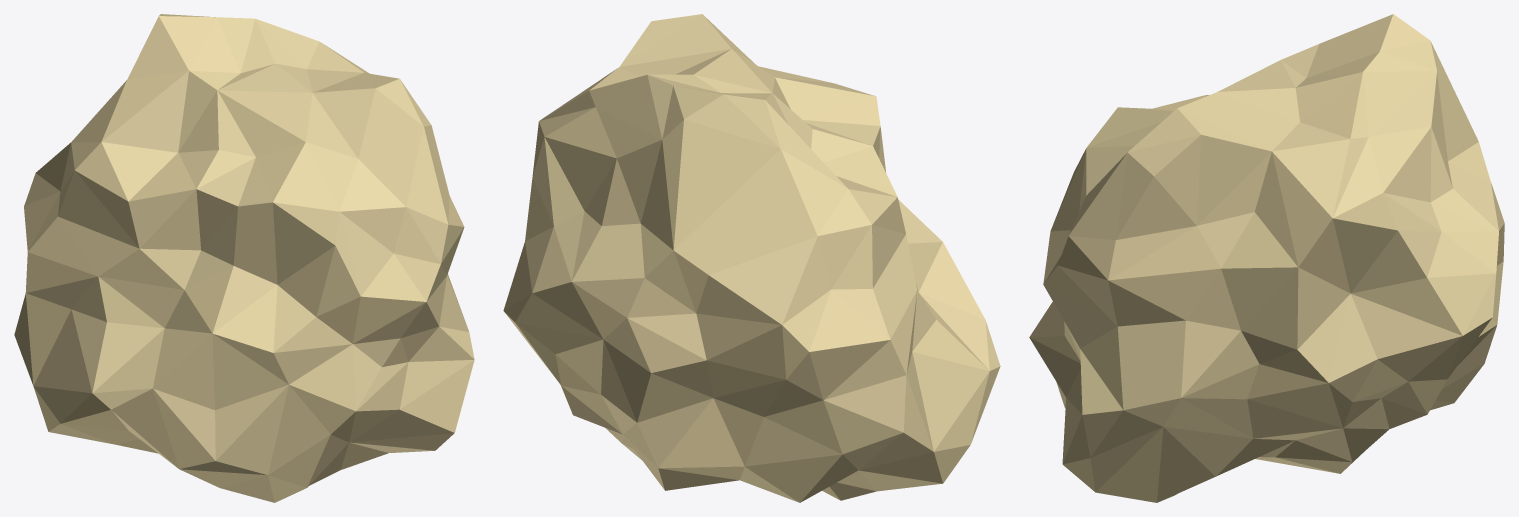
Rendered from Asteroid (109).fbx.
3 renders of one model, left to right at view 1: azimuth 30°, elevation 25°; view 2: azimuth 150°, elevation 25°; view 3: azimuth 270°, elevation 25°, orthographic. The views are drawn at different scales.
Visible parts, largest first — view 1: Asteroid151; view 2: Asteroid151; view 3: Asteroid151.
Boxes of the visible parts, x1,y1,x2,y2 form: Asteroid151: (14,14,474,502); Asteroid151: (503,14,1000,502); Asteroid151: (1029,14,1504,502).
Bounding box in the file's own units: 266 × 290 × 278.
